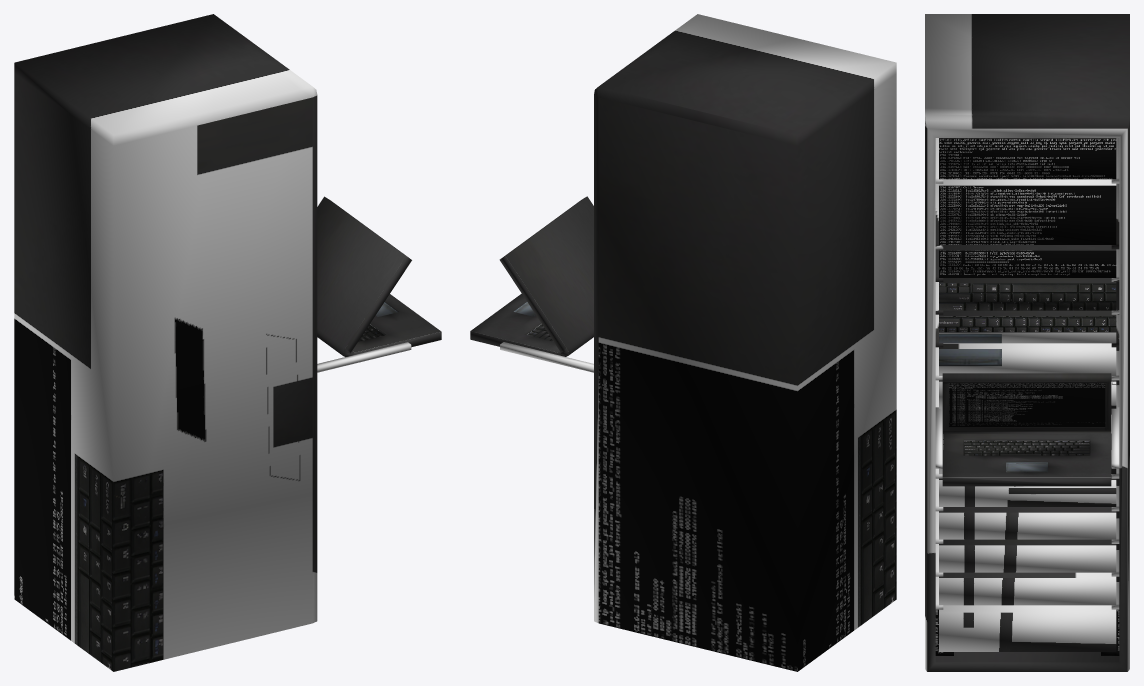
File: server+laptop 1.fbx
3 views of the same model, side by side, from view 1: azimuth 30°, elevation 25°; view 2: azimuth 150°, elevation 25°; view 3: azimuth 270°, elevation 25° (orthographic). The views are drawn at different scales.
Parts seen in each view (by area): view 1: Object_4, Object_2; view 2: Object_4, Object_2; view 3: Object_3, Object_4, Object_2.
Boxes of the visible parts, bbox=[...] form: Object_4: bbox=[14, 14, 411, 671]; Object_2: bbox=[317, 196, 441, 356]; Object_4: bbox=[500, 14, 896, 671]; Object_2: bbox=[470, 196, 593, 356]; Object_3: bbox=[939, 138, 1116, 651]; Object_4: bbox=[925, 14, 1129, 671]; Object_2: bbox=[942, 373, 1111, 486].
Bounding box in the file's own units: 338 × 515 × 172.
3 materials, 3 textured.
